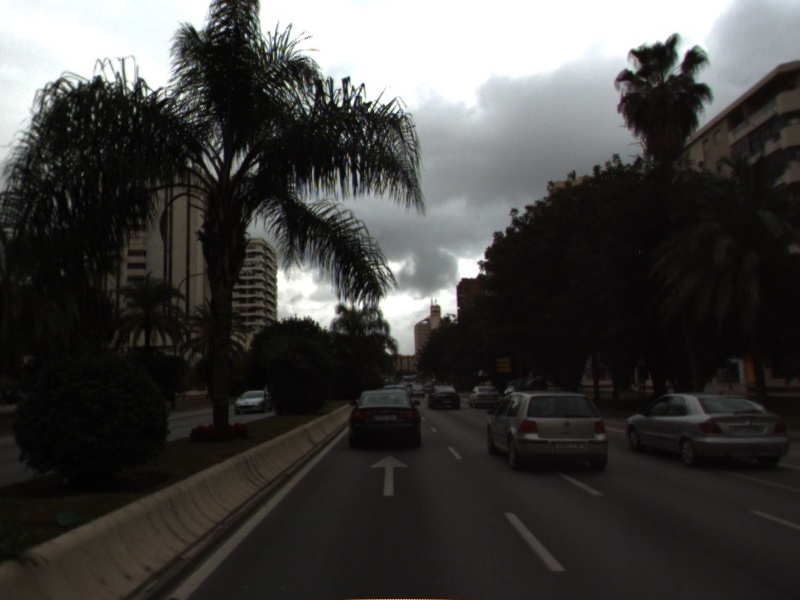STRAIGHT: (367, 452, 412, 498)
